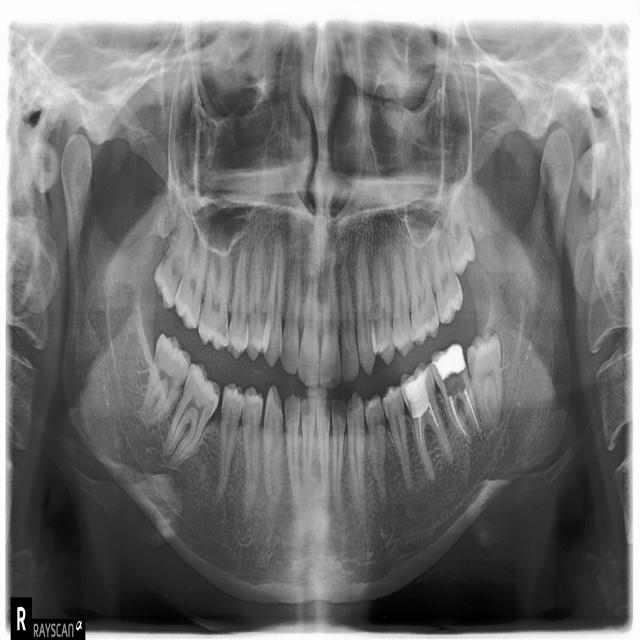mandibula: (61, 132, 574, 608)
